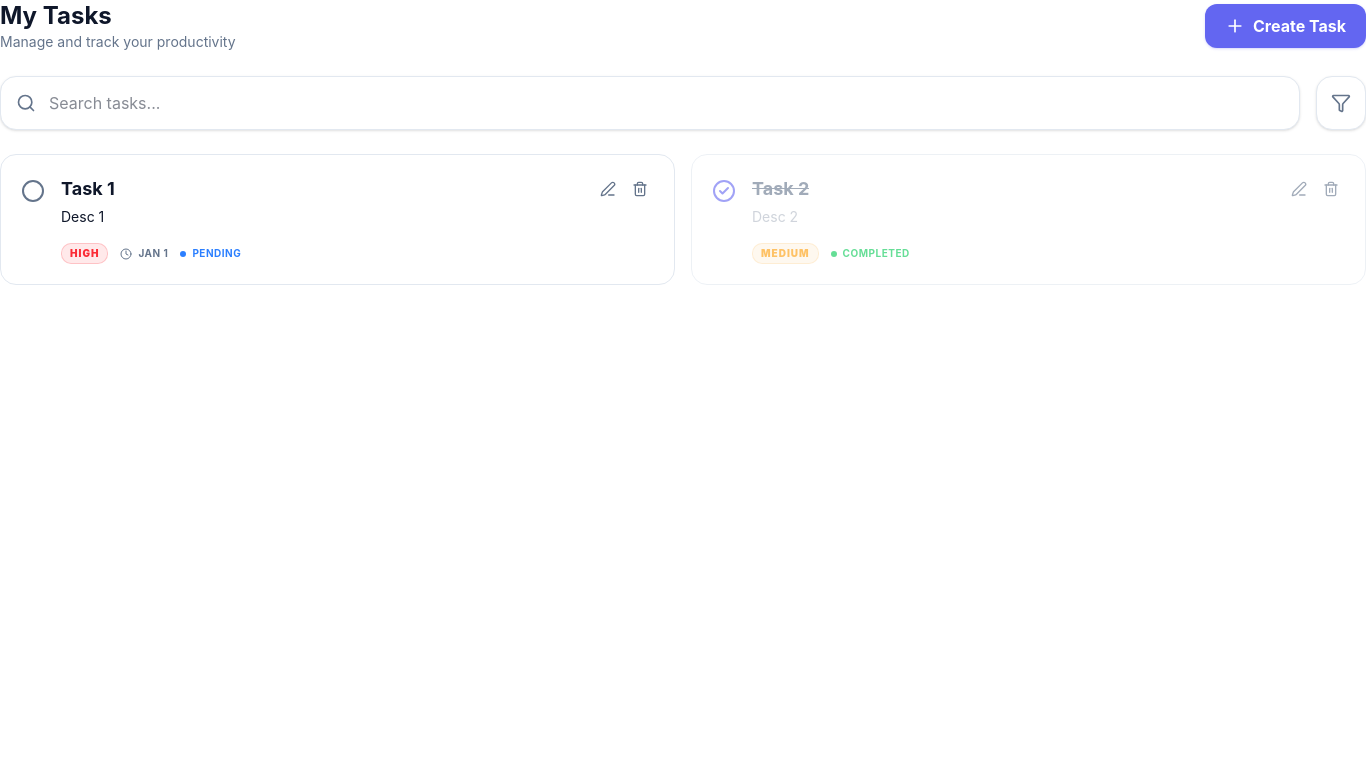
Test case: UserTaskView › opens create form when Add Task is clicked
Expected: the heading "Task 1" is shown, [61, 175, 115, 203]
Click the button "Create Task": (1286, 26) [1205, 4, 1365, 48]
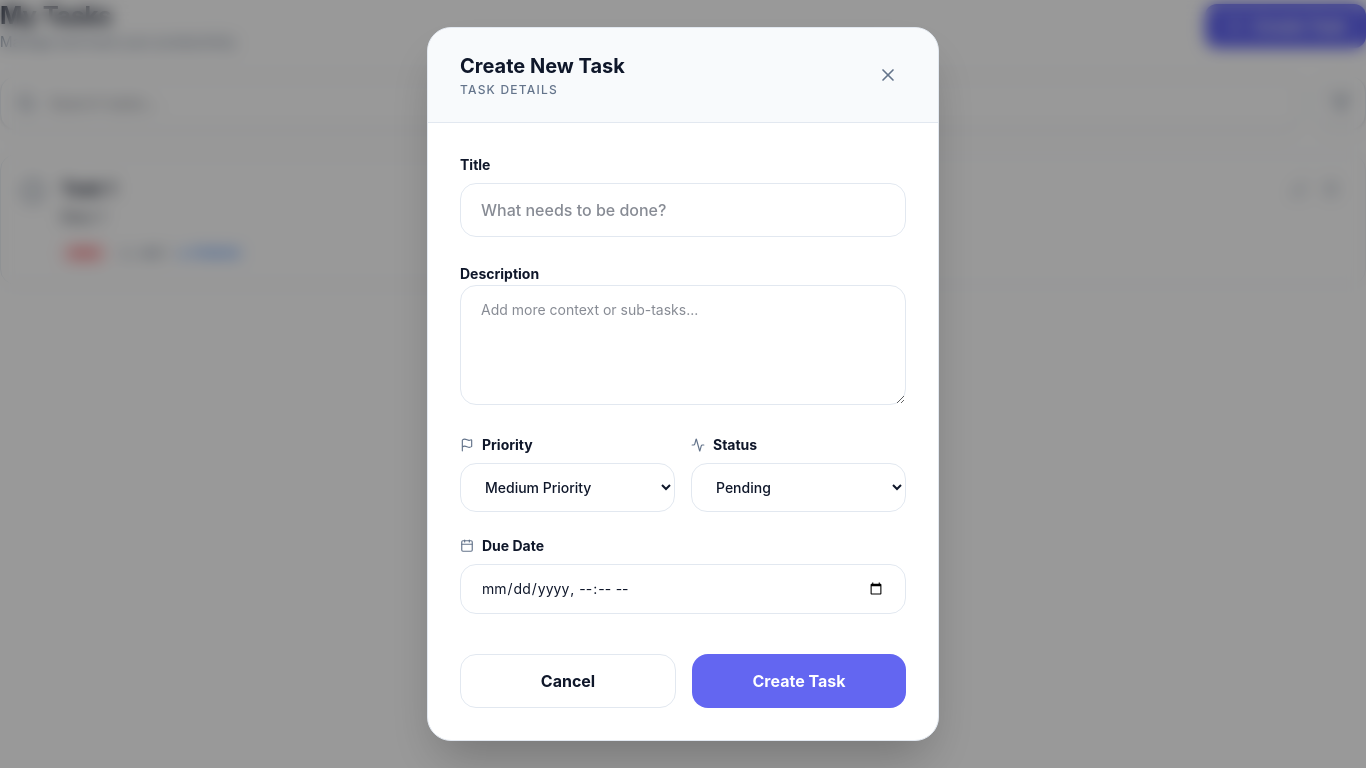
Expected: the heading "Create New Task" is shown, [460, 52, 625, 80]
